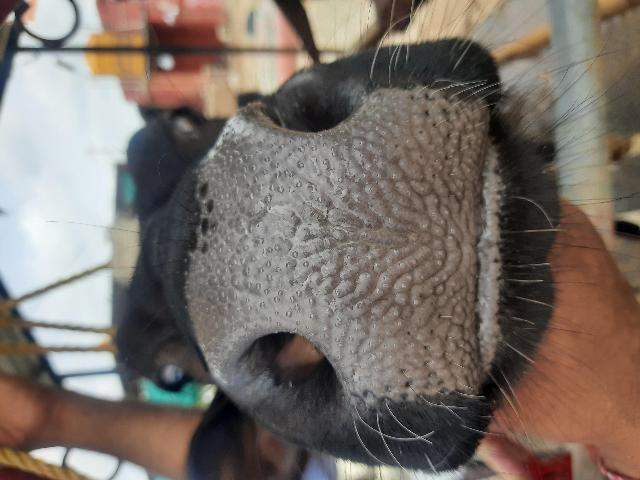Muzzle: (212, 140, 470, 334)
